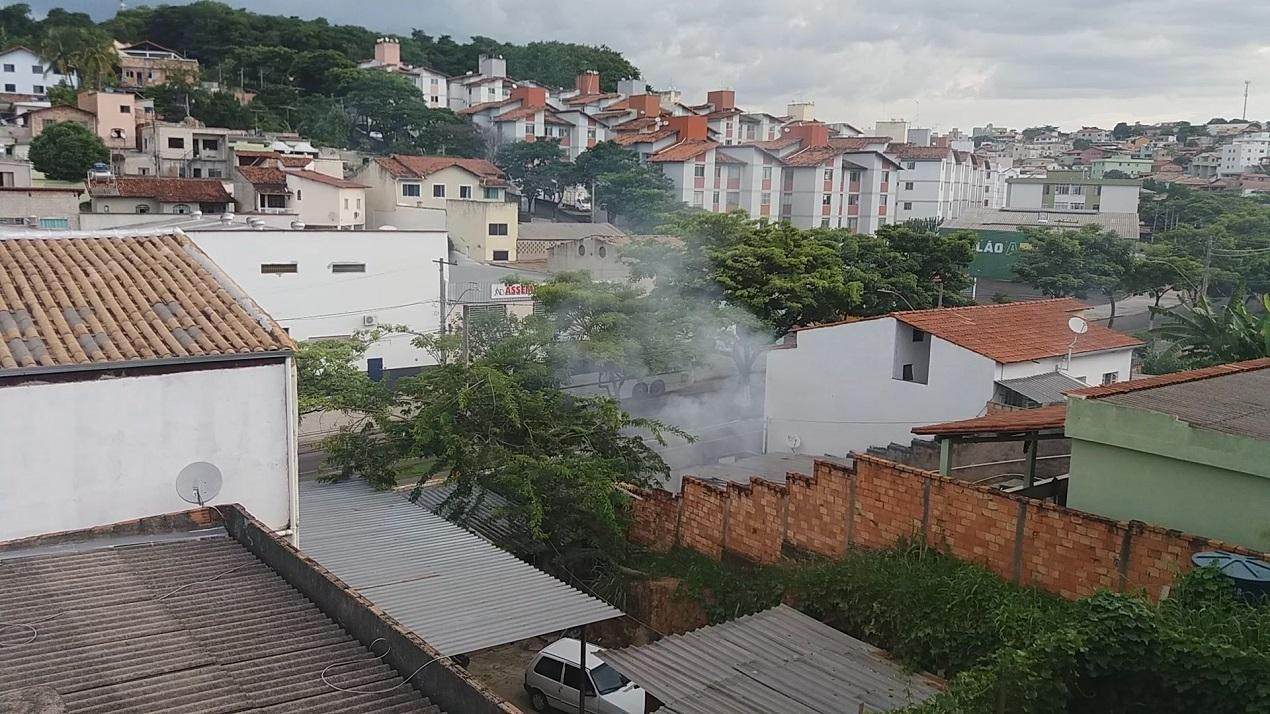smoke: (646, 378, 776, 478)
